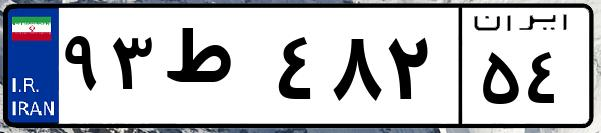2: (385, 28, 445, 110)
3: (110, 28, 158, 98)
4: (270, 28, 330, 110), (525, 38, 570, 115)
5: (475, 38, 525, 113)
8: (330, 28, 385, 110)
9: (57, 26, 110, 100)
ط: (158, 20, 270, 120)
